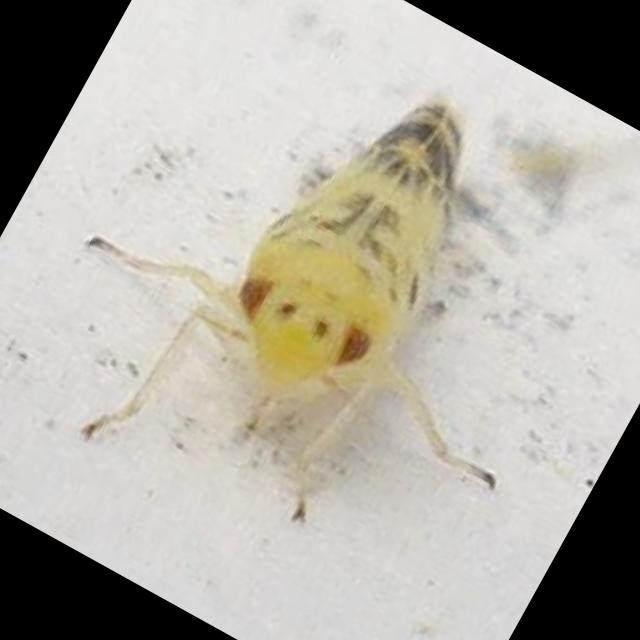green-leafhopper: (30, 0, 570, 560)
